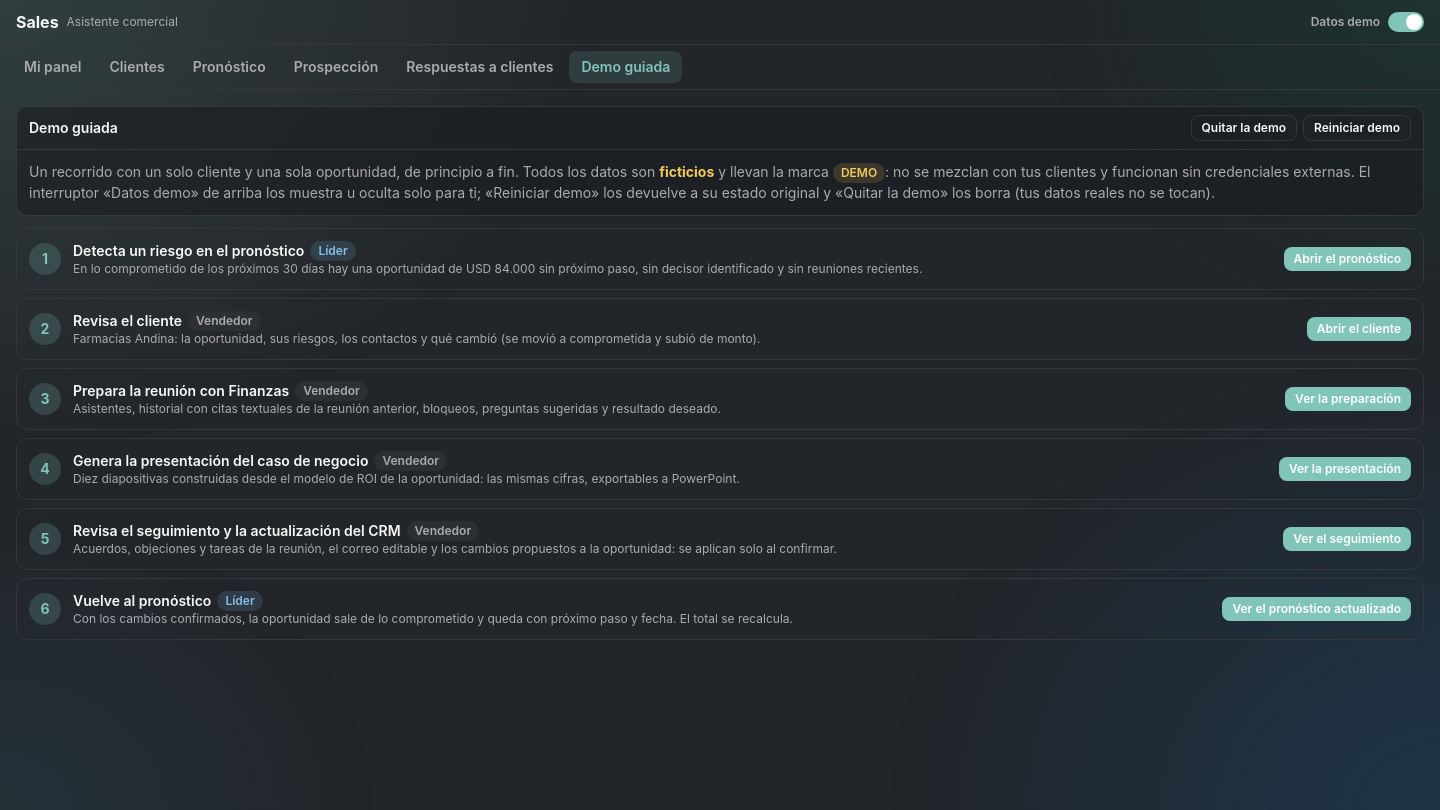
Scenario: the guided demo, on the page › the demo tab walks the same account and can be reset
This screenshot has width=1440, height=810.
Later steps or results of the test are not shown.
Expected: the number of list items is 6, [16, 228, 1424, 290]; [16, 298, 1424, 360]; [16, 368, 1424, 430]; [16, 438, 1424, 500]; [16, 508, 1424, 570]; [16, 578, 1424, 640]
Click the button "Ver la preparación" at [1348, 399], box [1285, 387, 1411, 411]
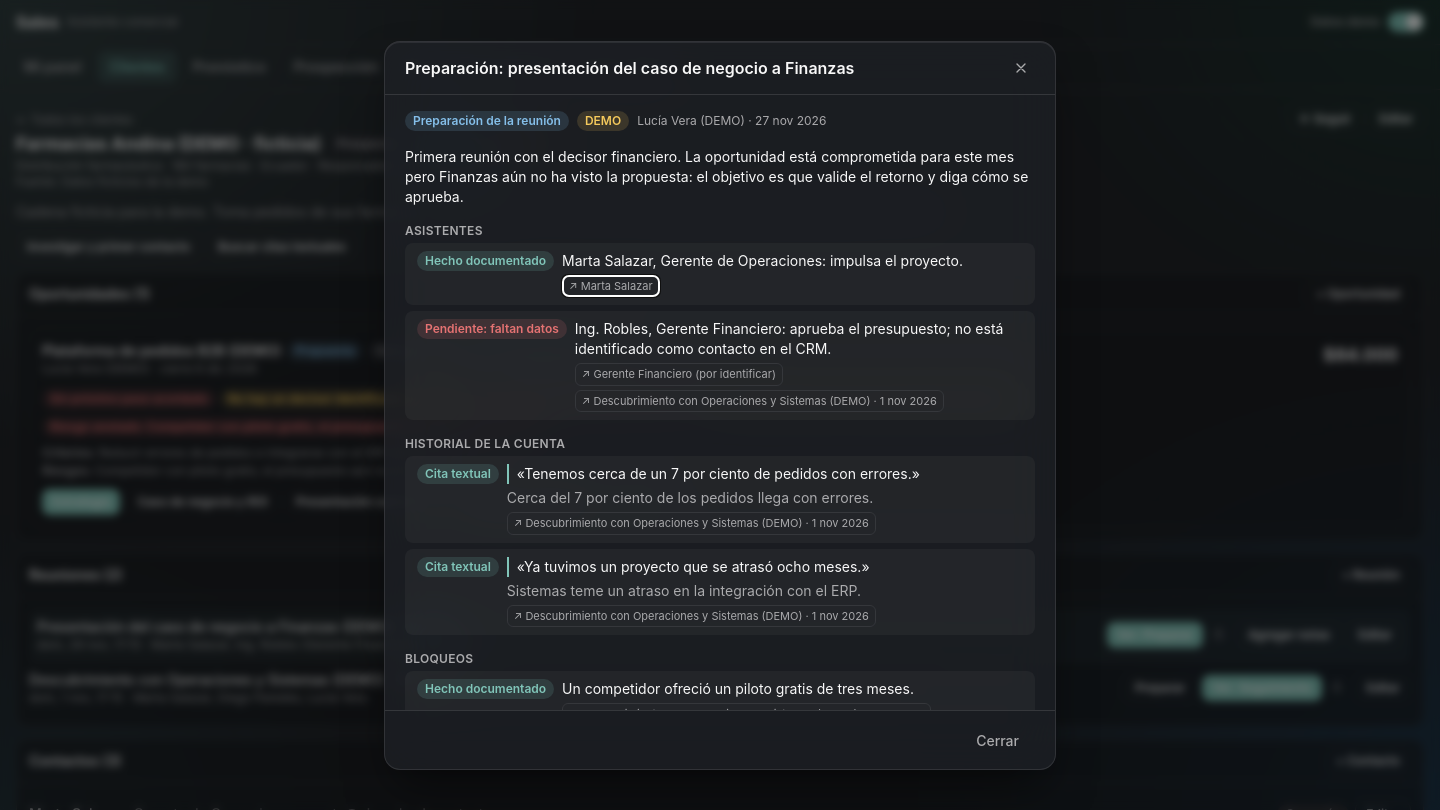
Expected: the text "«Tenemos cerca de un 7 por ciento de pedidos con errores.»" is shown, [507, 464, 1023, 484]
